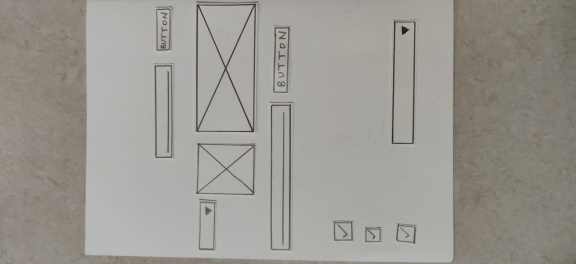button: (272, 24, 291, 94), (153, 6, 174, 52)
checkbox: (331, 219, 354, 243), (394, 221, 417, 245), (363, 224, 383, 244)
dropdown: (390, 18, 417, 146), (196, 198, 217, 251)
img: (193, 1, 256, 134), (193, 140, 258, 197)
text: (268, 100, 293, 252), (152, 63, 174, 160)
